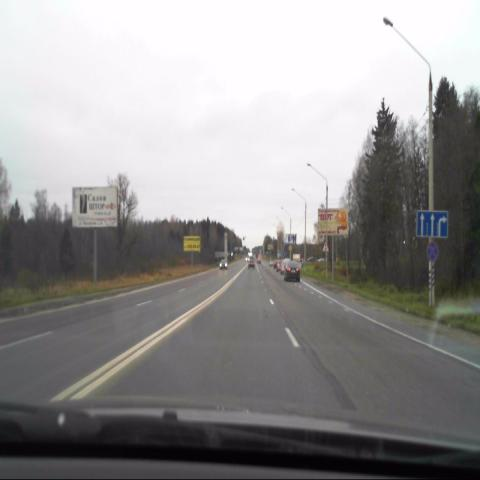1_8: (322, 241, 329, 252)
3_27: (424, 242, 437, 262)
5_15_1: (415, 210, 447, 238)
